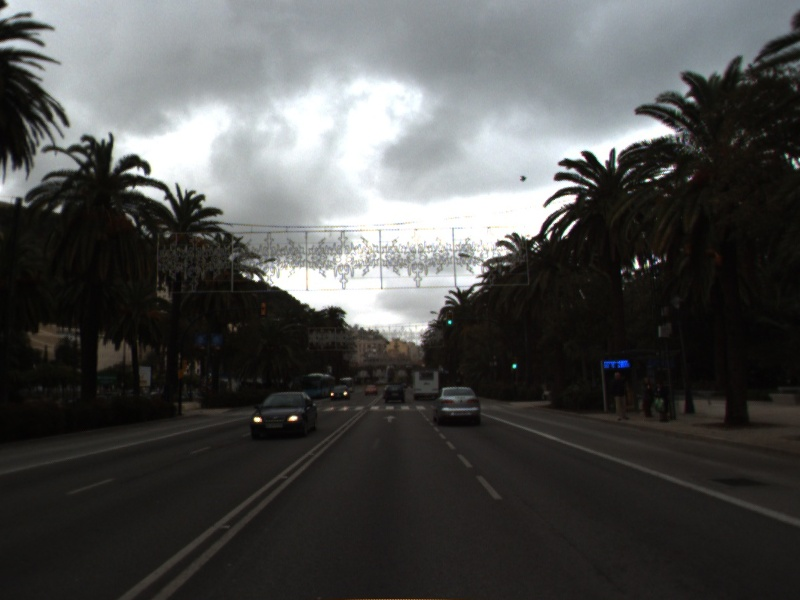STRAIGHT: (381, 413, 400, 424)
